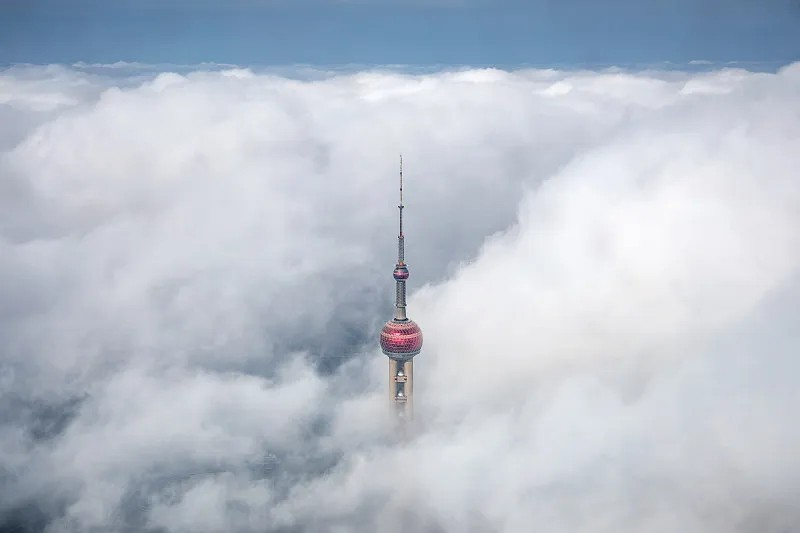Oriental: (379, 155, 423, 417)
